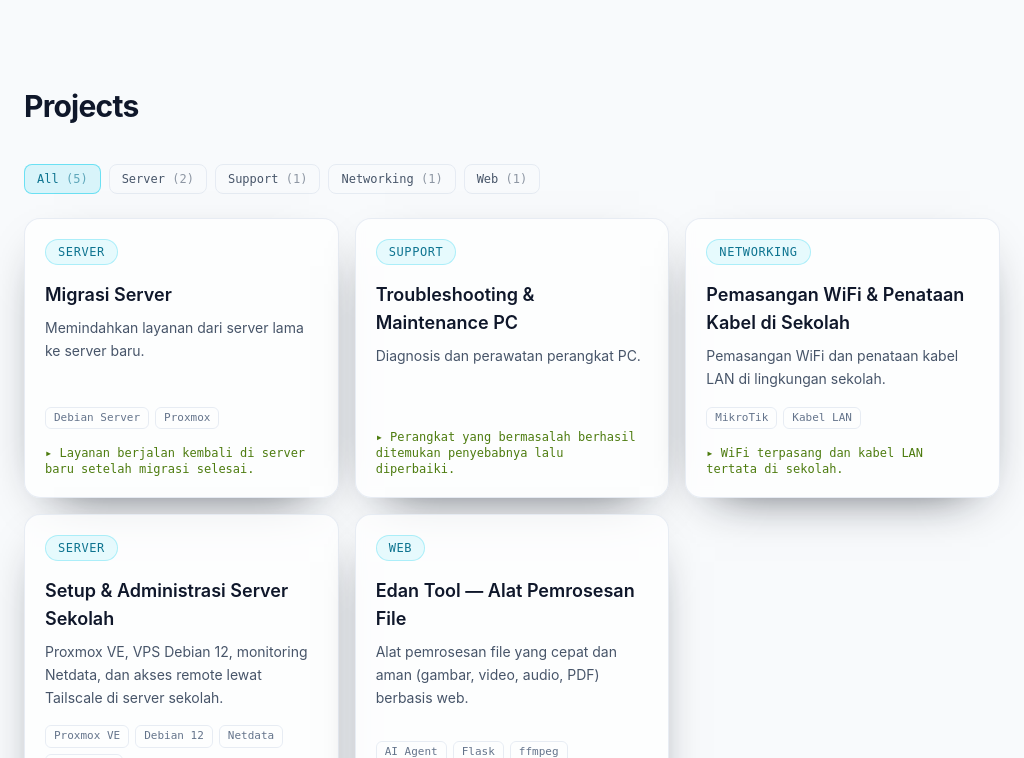
Projects › opens a modal with description, tools, result and an SVG topology
Click the button "Migrasi Server" at (81, 252), box [24,218,339,498]
(page scrolled)
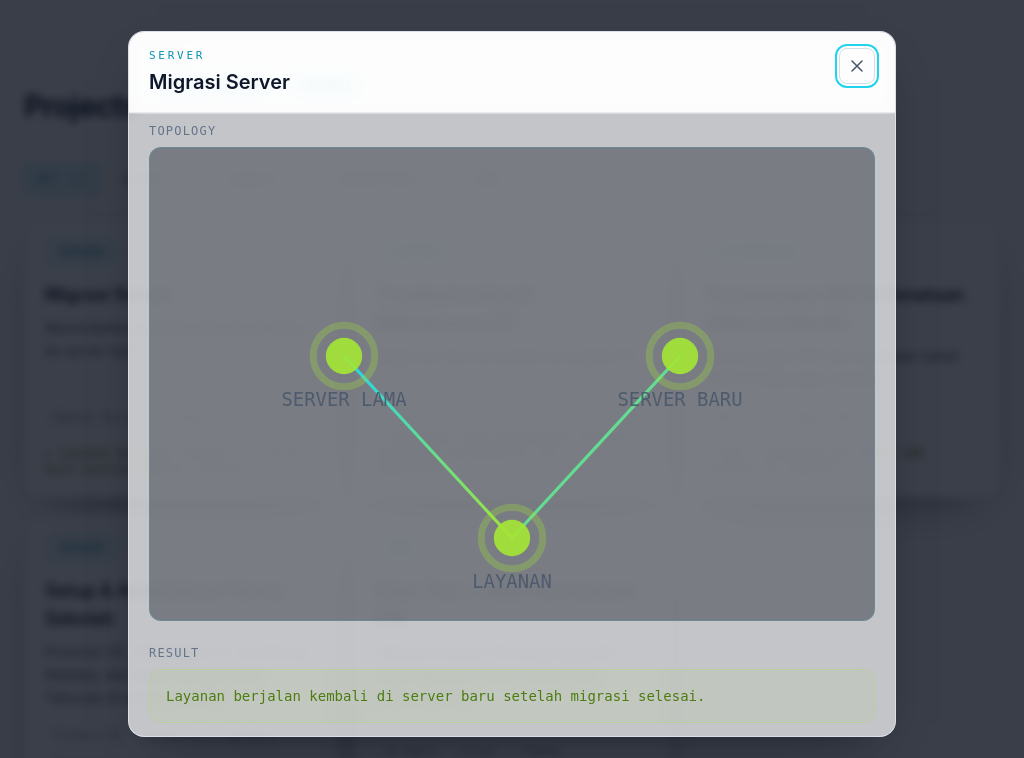
Expected: the text "Layanan berjalan kembali di server baru setelah migrasi selesai." is shown, [149,669,875,723]
Expected: the list item "Debian Server" is shown, [149,73,277,99]
Expected: the list item "Proxmox" is shown, [285,73,366,99]
